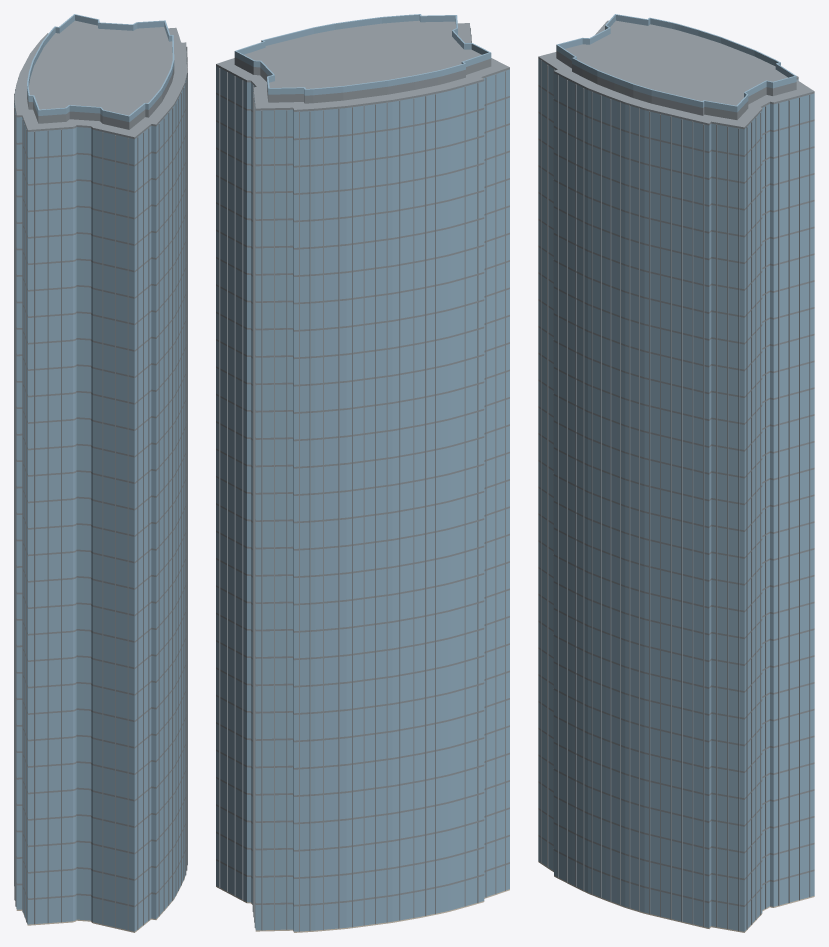
The picture shows the model from 3 angles, left to right: view 1: azimuth 30°, elevation 25°; view 2: azimuth 150°, elevation 25°; view 3: azimuth 270°, elevation 25°; orthographic projection. The views are drawn at different scales.
Visible parts, largest first — view 1: glass, roof; view 2: glass, roof; view 3: glass, roof.
Boxes of the visible parts, left/top/right/bottom form: glass: left=14, top=14, right=186, bottom=931; roof: left=14, top=20, right=187, bottom=930; glass: left=216, top=14, right=509, bottom=931; roof: left=216, top=20, right=509, bottom=931; glass: left=538, top=14, right=814, bottom=931; roof: left=538, top=20, right=814, bottom=930.
Size of the model in its own units: 58.78 by 210 by 64.26.
